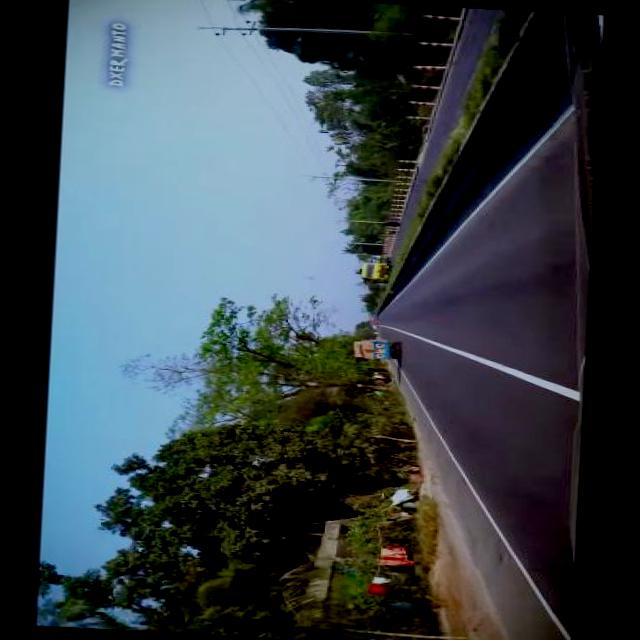bus: (364, 254, 392, 264)
truck: (357, 337, 399, 363), (356, 262, 390, 288)
